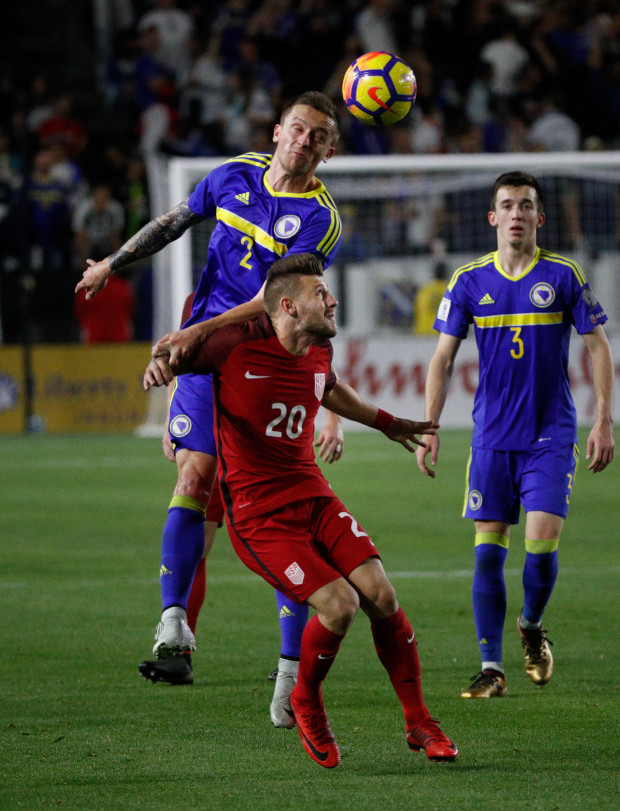soccer player: (72, 93, 347, 743), (143, 259, 473, 771), (420, 168, 615, 704)
soccerball: (338, 49, 422, 124)
